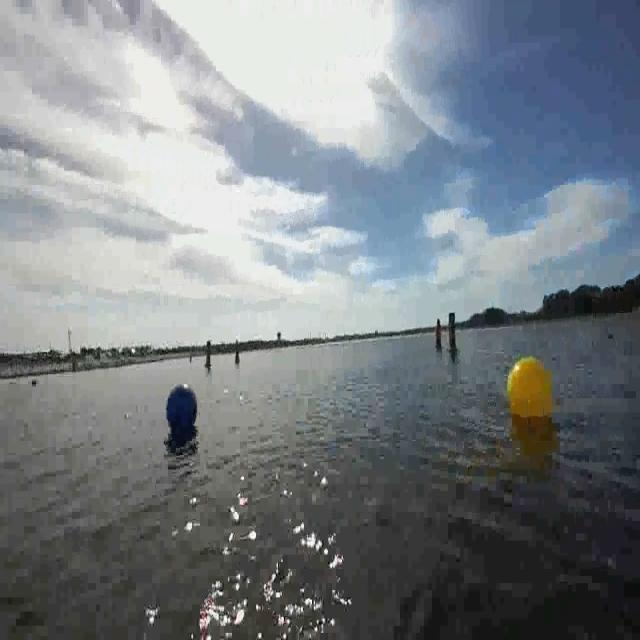blue-buoy: (166, 385, 197, 432)
green-column-buoy: (444, 314, 457, 358), (205, 341, 213, 368)
red-column-buoy: (432, 320, 443, 352)
yellow-buoy: (505, 353, 554, 425)
